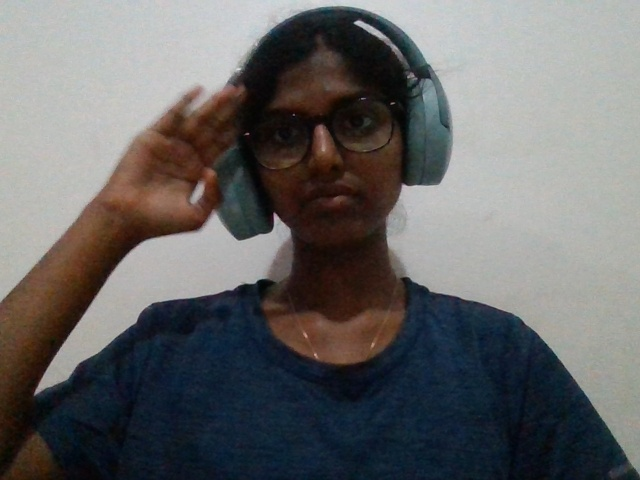Hello: (62, 44, 308, 295)
